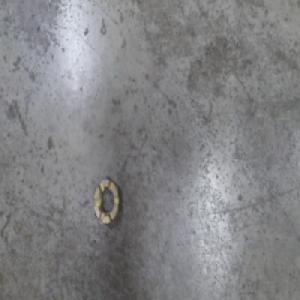Nut: (92, 175, 120, 228)
